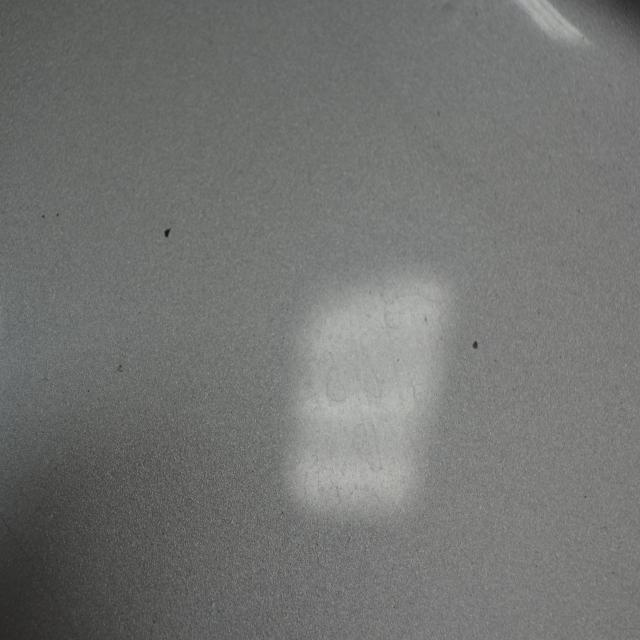dirt: (112, 356, 124, 375), (52, 208, 63, 221), (470, 338, 480, 351), (162, 225, 172, 236), (39, 209, 46, 219)
water marks: (300, 331, 398, 424), (385, 286, 459, 408), (299, 432, 390, 526)
